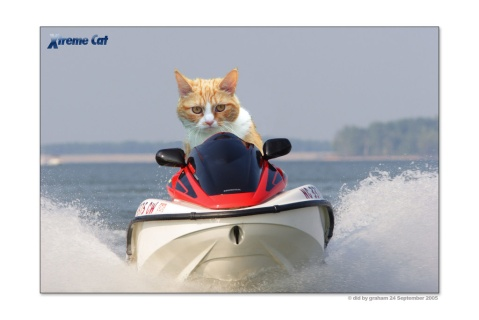Cat: (174, 70, 262, 154)
